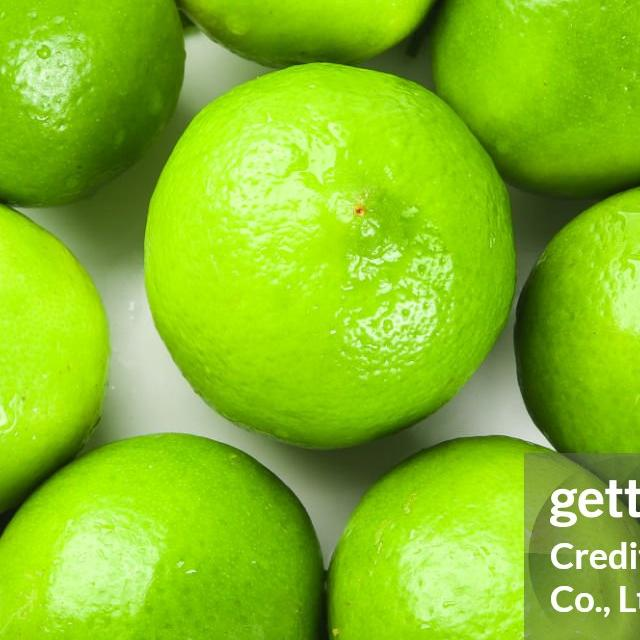lime: (141, 66, 524, 452), (0, 436, 327, 640), (0, 206, 110, 524)
